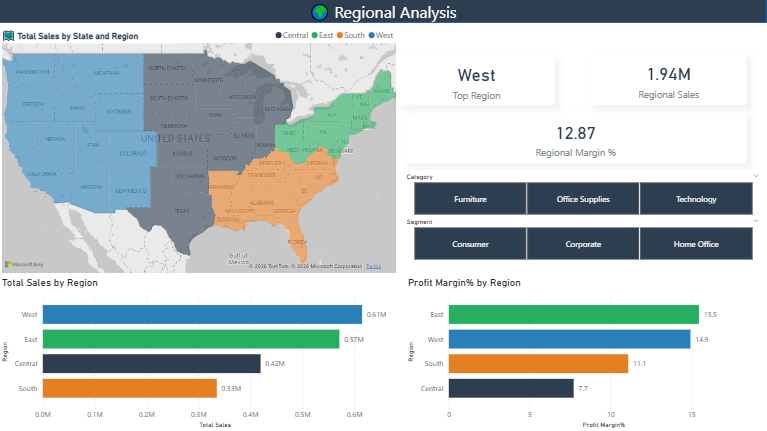

The dashboard page shown, as its layout file describes it:
{"tool":"powerbi","page":{"name":"Regional Analysis","canvas":[1280,720],"ordinal":1},"visuals":[{"type":"filledMap","title":"Total Sales by State and Region","fields":{"Category":["Orders.State"],"Series":["Orders.Region"]},"box":[0,39.7,667.1,421.7],"z":0},{"type":"actionButton","box":[0,0,100,40],"z":1000},{"type":"clusteredBarChart","fields":{"Y":["Orders.Total Sales"],"Category":["Orders.Region"]},"box":[0,461.4,667.1,258.6],"z":2000},{"type":"barChart","fields":{"Category":["Orders.Region"],"Y":["Orders.Profit Margin%"]},"box":[677.4,461.4,602.4,258.6],"z":3000},{"type":"card","fields":{"Values":["Orders.Top Region"]},"box":[667.1,95.5,258.6,80.8],"z":4000},{"type":"card","fields":{"Values":["Orders.Regional Sales"]},"box":[987.4,91.1,258.6,85.2],"z":5000},{"type":"card","fields":{"Values":["Orders.Regional Margin %"]},"box":[677.4,189.6,568.7,83.8],"z":6000},{"type":"slicer","fields":{"Values":["Orders.Category"]},"box":[667.1,285.1,612.7,80.8],"z":7000},{"type":"slicer","fields":{"Values":["Orders.Segment"]},"box":[667.1,360,612.7,80.8],"z":8000},{"type":"shape","box":[0,0,1279.8,39.7],"z":9000},{"type":"textbox","title":"🗺️ Total Sales by State and Region","box":[0,50,299.8,25],"z":10000}]}

Visuals, with their boxes in screenshot pixels (x1, y1, x2, y2), scaled from the page's 1280x720 canvas onto the 767x431 screenshot:
"Total Sales by State and Region" filledMap: BBox(0, 24, 400, 276)
actionButton: BBox(0, 0, 60, 24)
clusteredBarChart - Orders.Total Sales x Orders.Region: BBox(0, 276, 400, 430)
barChart - Orders.Region x Orders.Profit Margin%: BBox(406, 276, 766, 430)
card - Orders.Top Region: BBox(400, 57, 555, 106)
card - Orders.Regional Sales: BBox(592, 55, 747, 106)
card - Orders.Regional Margin %: BBox(406, 113, 747, 164)
slicer - Orders.Category: BBox(400, 171, 766, 219)
slicer - Orders.Segment: BBox(400, 216, 766, 264)
shape: BBox(0, 0, 766, 24)
"🗺️ Total Sales by State and Region" textbox: BBox(0, 30, 180, 45)
